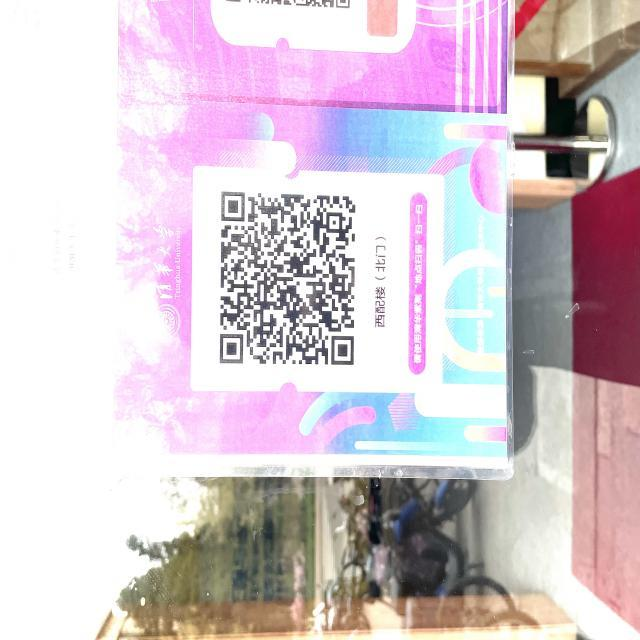qr_code: (220, 191, 356, 366)
